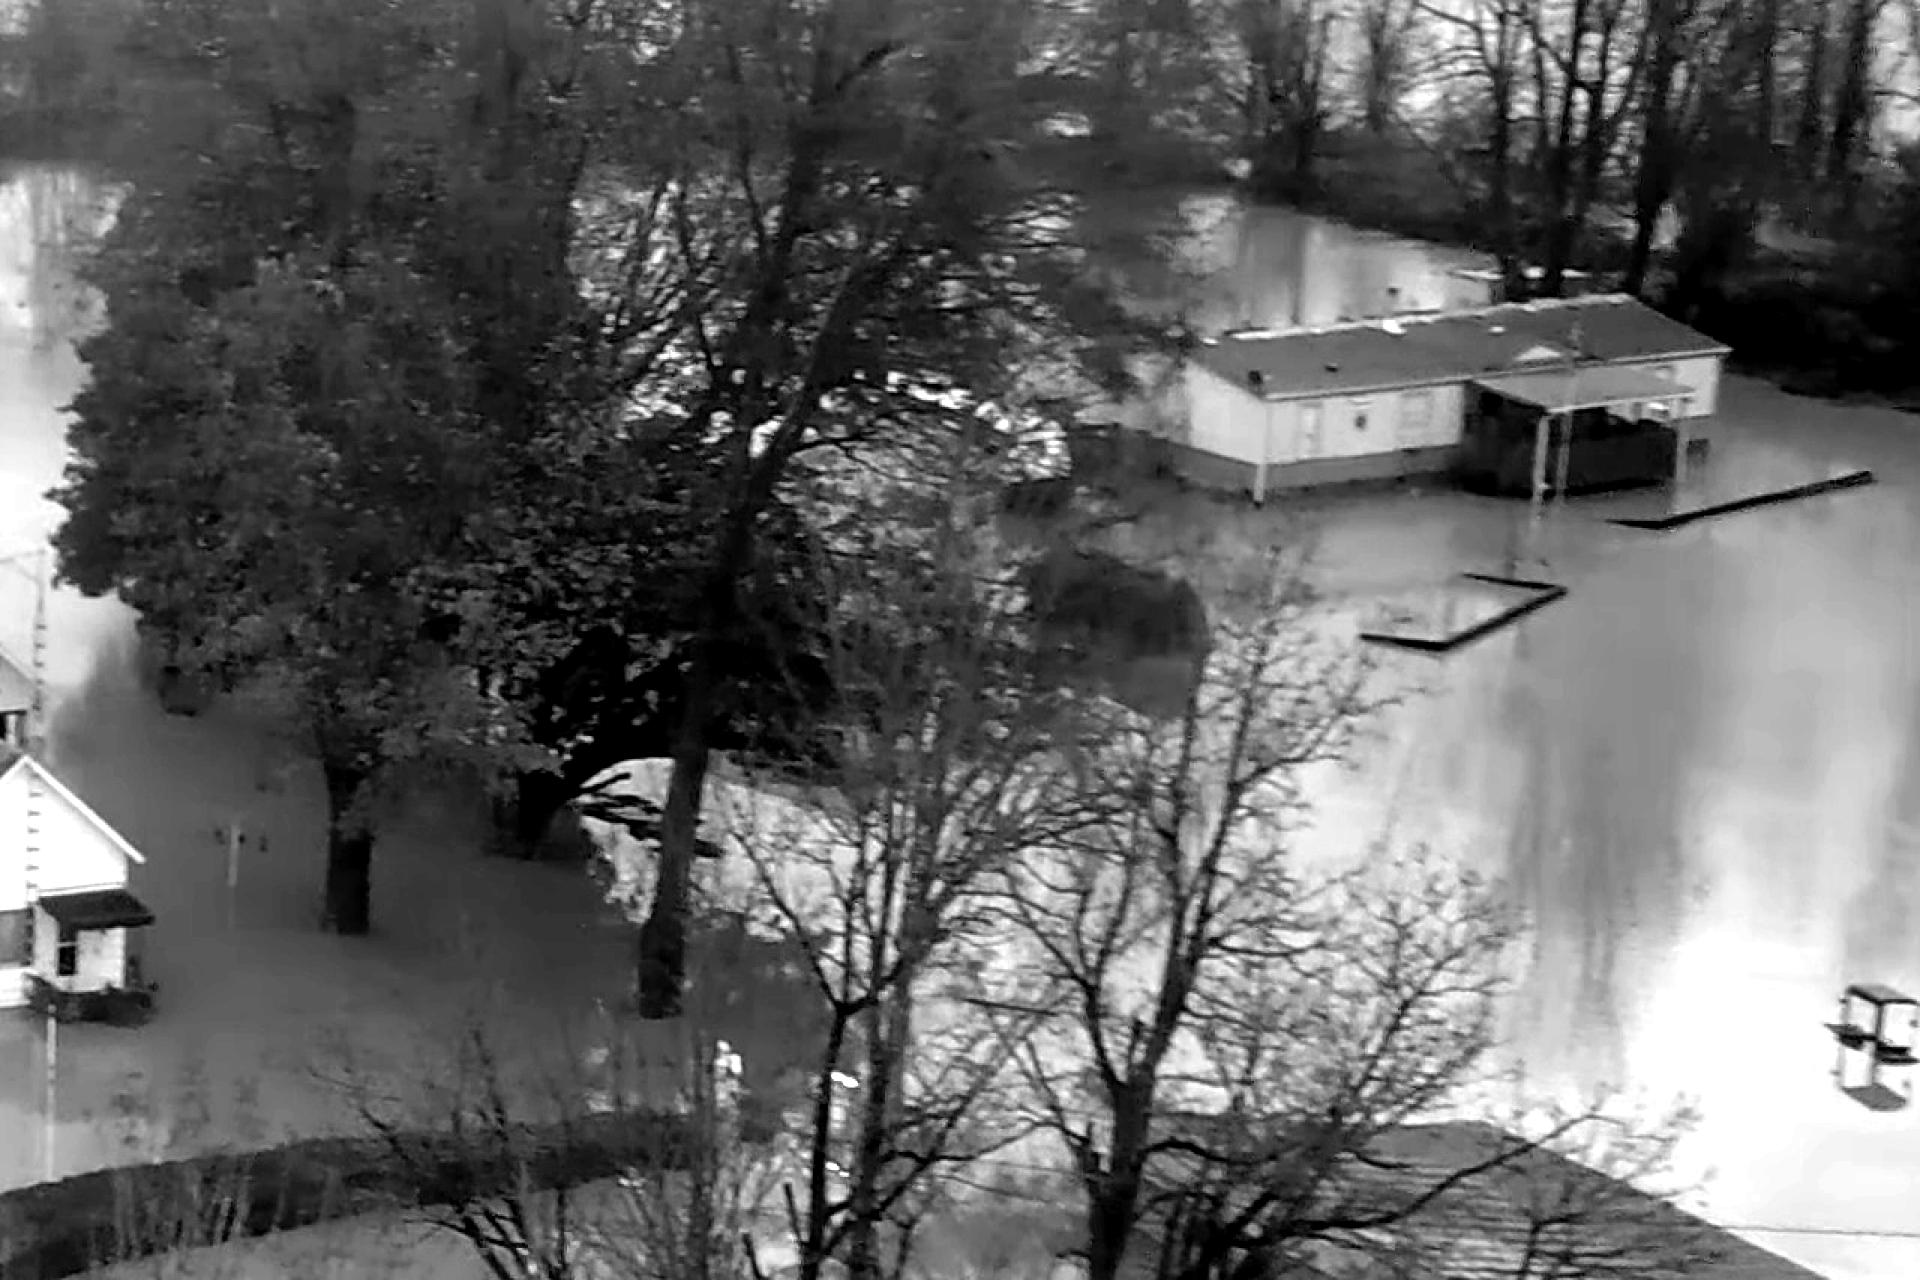House: (1133, 299, 1723, 496), (1123, 1106, 1730, 1280), (0, 624, 141, 1040)
